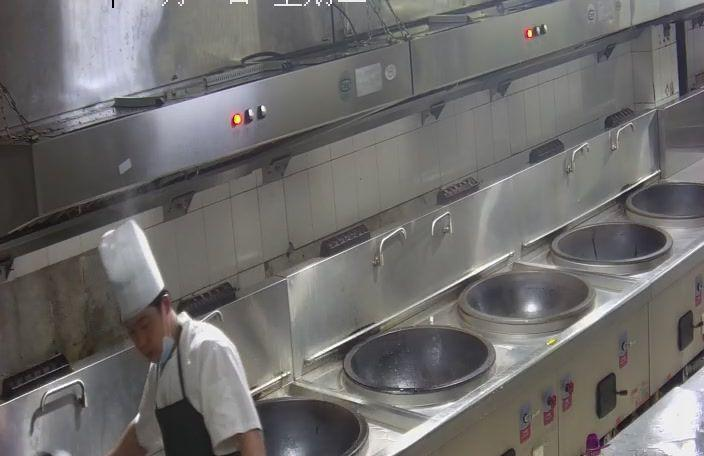mask: (131, 313, 183, 361)
